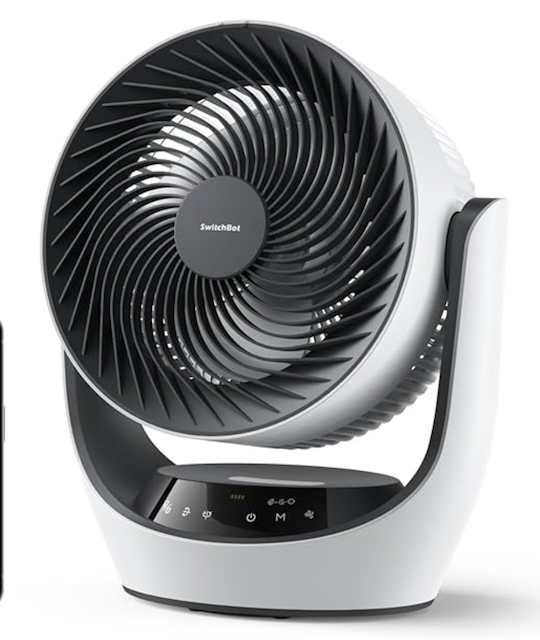fan: (30, 55, 518, 580)
